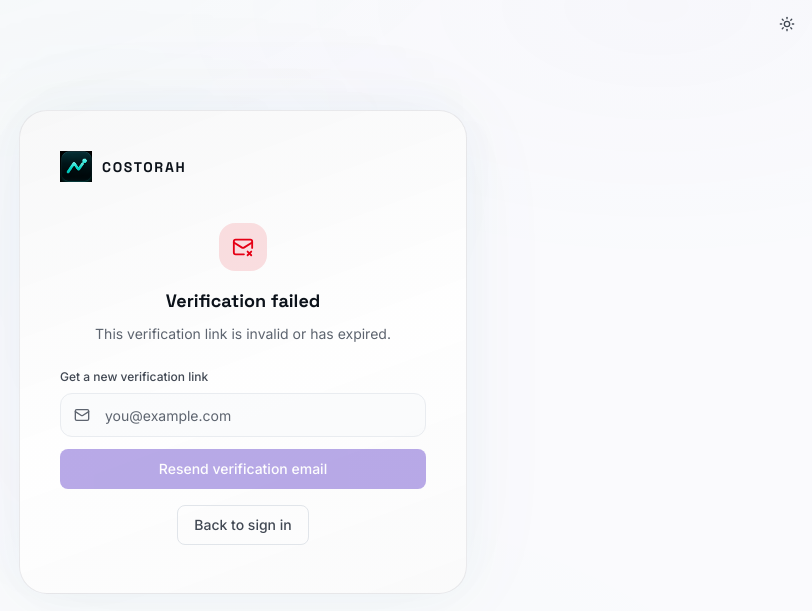
Scenario: VerifyEmail — EP-24.4 › resend form submits the entered email and shows a confirmation
The width and height of the screenshot is (812, 611).
expect the heading "Verification failed" is shown: met, box [166,289,320,312]
In the field labelled "Get a new verification link": (243, 415) [60,393,426,437], type "a@example.com"
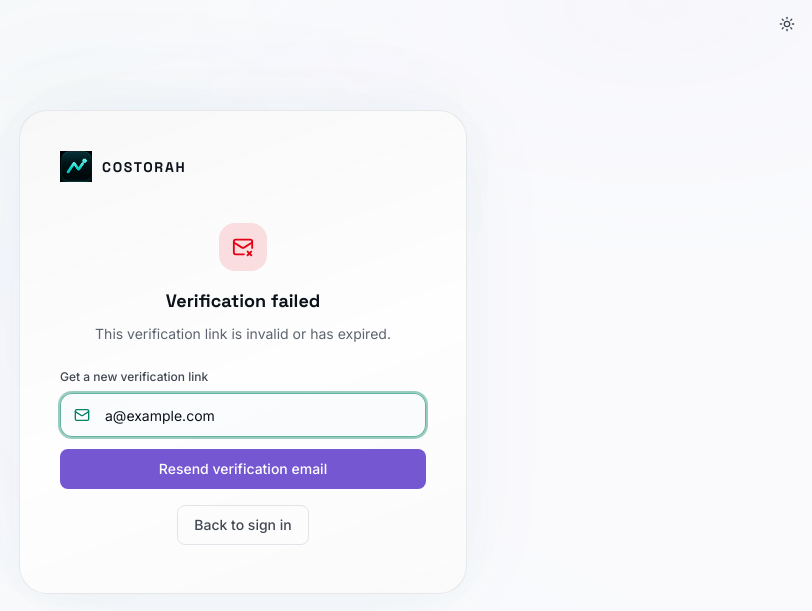
Click the button "Resend verification email": (243, 469) [60,449,426,489]
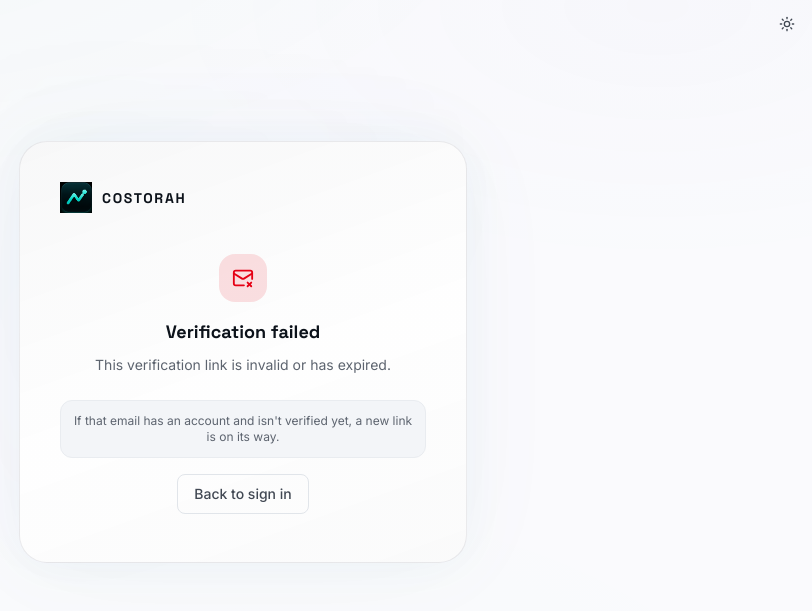
expect the text "a new link is on its way" is shown: met, box [74,413,412,444]
